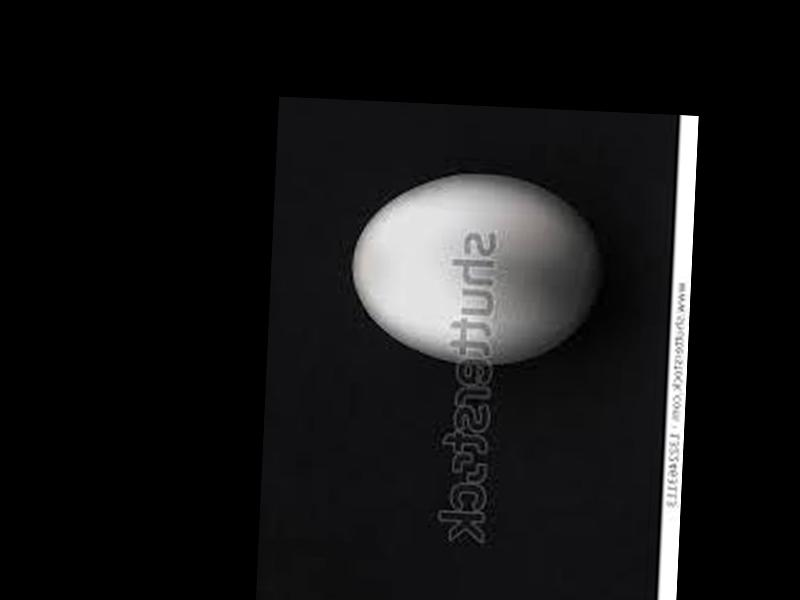Eggs: (345, 166, 603, 365)
